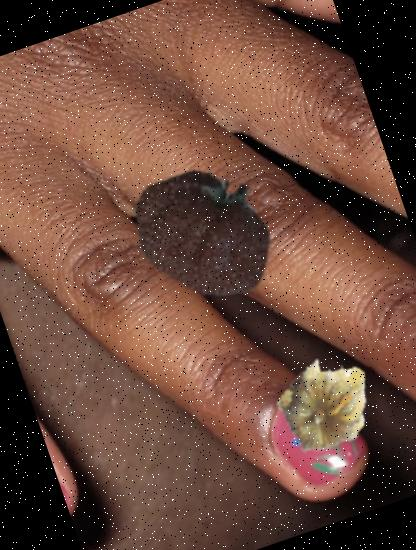Physalis: (262, 340, 393, 471)
Strawberry: (109, 136, 300, 326)
